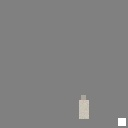supply_truck: (79, 100, 89, 119)
